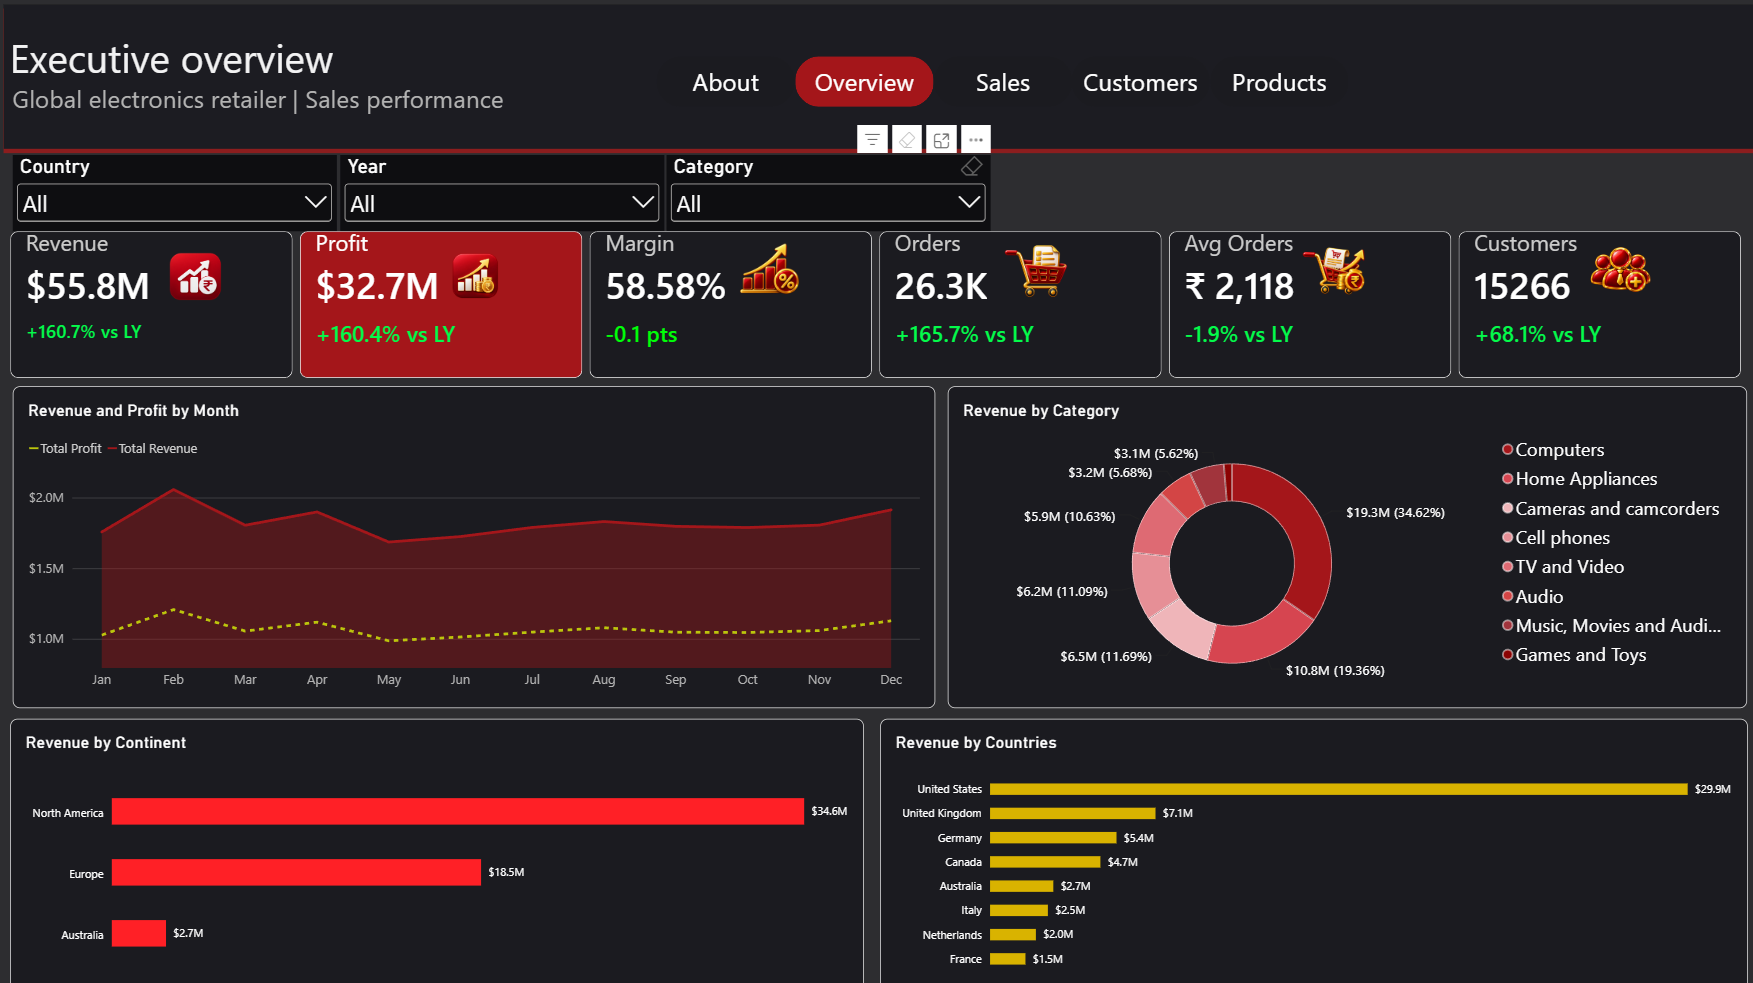

This screenshot's page, from the dashboard's own definition file:
{"tool":"powerbi","page":{"name":"Overview","canvas":[1920,1080],"ordinal":1},"visuals":[{"type":"shape","box":[0,0,1919.6,167.5],"z":0},{"type":"textbox","box":[0,33,1919.6,134],"z":1000},{"type":"actionButton","box":[717.8,60.7,150.9,55.2],"z":2000},{"type":"actionButton","box":[868.7,60.7,150.9,55.2],"z":3000},{"type":"actionButton","box":[1019.6,60.7,150.9,55.2],"z":4000},{"type":"actionButton","box":[1170.6,60.7,150.9,55.2],"z":5000},{"type":"actionButton","box":[1321.5,60.7,150.9,55.2],"z":6000},{"type":"slicer","fields":{"Values":["Customers.Country"]},"box":[15,169.3,353.4,82.8],"z":8000},{"type":"slicer","title":"Year","fields":{"Values":["Dim_Date.Year"]},"box":[371.8,169.3,353.4,82.8],"z":9000},{"type":"slicer","fields":{"Values":["Products.Category"]},"box":[728.8,169.3,353.4,82.8],"z":10000},{"type":"cardVisual","fields":{"Data":["Sales.Total Revenue","Sales.Total Profit","Sales.Profit Margin %","Sales.Total Orders","Sales.Avg Order Value","Count(Customers.CustomerKey)"]},"box":[12.9,252.1,1893.9,160.1],"z":11000},{"type":"image","box":[176.7,270.6,73.6,62.6],"z":12000},{"type":"image","box":[482.2,270.6,73.6,62.6],"z":13000},{"type":"image","box":[802.5,263.2,75.5,62.6],"z":14000},{"type":"image","box":[1093,263,74,63],"z":15000},{"type":"image","box":[1420,263,74,63],"z":16000},{"type":"image","box":[1732,263,74,62],"z":17000},{"type":"areaChart","title":"Revenue and Profit by Month","fields":{"Category":["Dim_Date.Month"],"Y":["Sales.Total Profit","Sales.Total Revenue"]},"box":[14.7,421.5,1006.8,351.5],"z":18000},{"type":"donutChart","title":"Revenue by Category","fields":{"Category":["Products.Category"],"Y":["Sales.Total Revenue"]},"box":[1034.4,421.5,872.4,351.5],"z":19000},{"type":"barChart","title":"Revenue by Continent","fields":{"Category":["Customers.Continent"],"Y":["Sales.Total Revenue"]},"box":[12.9,784.1,931.3,296.3],"z":20000},{"type":"barChart","title":"Revenue by Countries","fields":{"Category":["Customers.Country"],"Y":["Sales.Total Revenue"]},"box":[960.7,784.1,946,296.3],"z":21000}]}

Visuals, with their boxes on the page's 1920x1080 design canvas (x1, y1, x2, y2). These are canvas units, not pixel positions in the 1753x983 screenshot, which may show the page scaled, cropped or inside an application window:
shape: (0,0,1920,168)
textbox: (0,33,1920,167)
actionButton: (718,61,869,116)
actionButton: (869,61,1020,116)
actionButton: (1020,61,1170,116)
actionButton: (1171,61,1322,116)
actionButton: (1322,61,1472,116)
slicer - Customers.Country: (15,169,368,252)
"Year" slicer: (372,169,725,252)
slicer - Products.Category: (729,169,1082,252)
cardVisual - Sales.Total Revenue x Sales.Total Profit: (13,252,1907,412)
image: (177,271,250,333)
image: (482,271,556,333)
image: (802,263,878,326)
image: (1093,263,1167,326)
image: (1420,263,1494,326)
image: (1732,263,1806,325)
"Revenue and Profit by Month" areaChart: (15,422,1022,773)
"Revenue by Category" donutChart: (1034,422,1907,773)
"Revenue by Continent" barChart: (13,784,944,1080)
"Revenue by Countries" barChart: (961,784,1907,1080)
